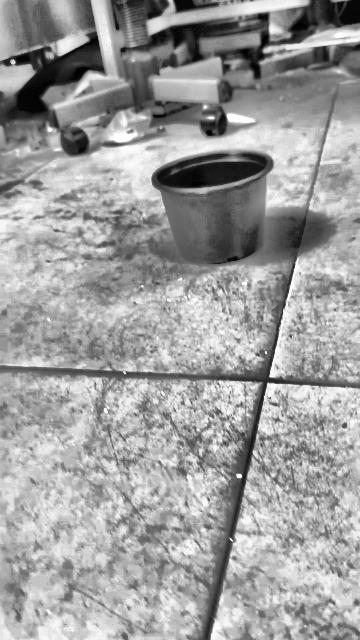pot: (153, 150, 272, 264)
